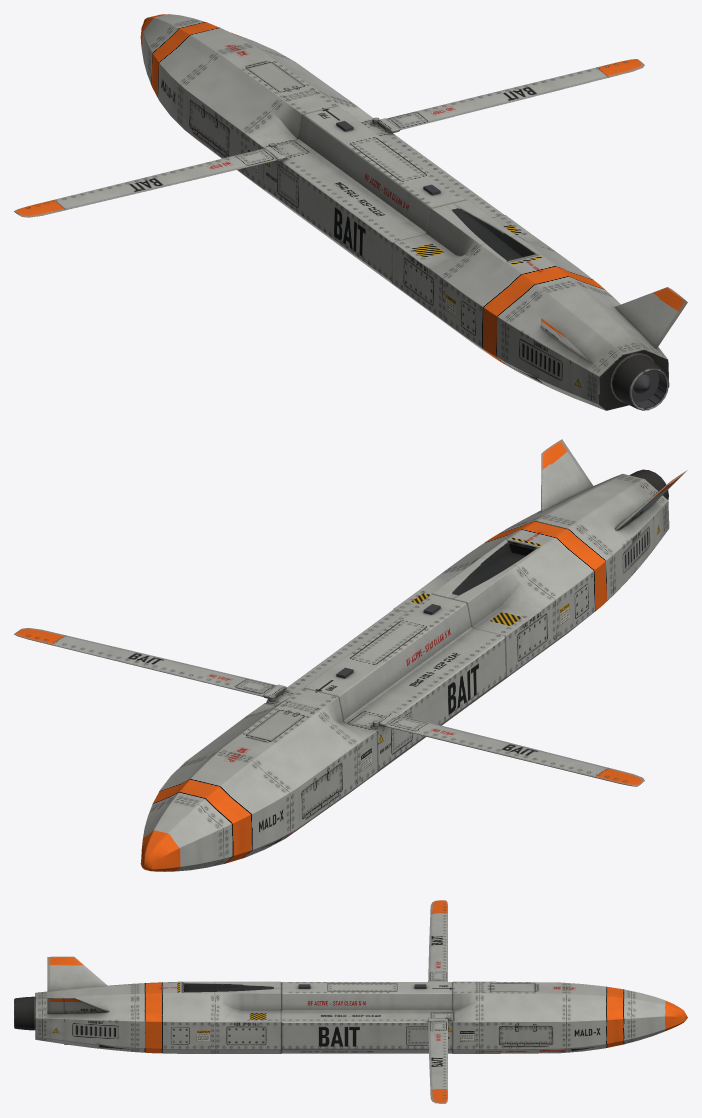
File: MaldX.fbx
3 renders of one model, top to bottom at view 1: azimuth 30°, elevation 25°; view 2: azimuth 150°, elevation 25°; view 3: azimuth 270°, elevation 25°, orthographic. The views are drawn at different scales.
Visible parts, largest first — view 1: Skin, WingR, WingL, Dark; view 2: Skin, WingL, WingR; view 3: Skin, WingR, WingL.
Part boxes in pixels (<box>): Skin: <box>140,14,687,410</box>; WingR: <box>372,59,644,133</box>; WingL: <box>14,142,286,217</box>; Dark: <box>336,121,666,407</box>; Skin: <box>140,439,687,871</box>; WingL: <box>372,712,644,786</box>; WingR: <box>14,628,286,701</box>; Skin: <box>14,956,687,1053</box>; WingR: <box>428,1016,450,1103</box>; WingL: <box>428,900,447,981</box>.
Size of what is drawn, in the model's own units: 207 by 33.62 by 291.
2 materials, 1 textured.
